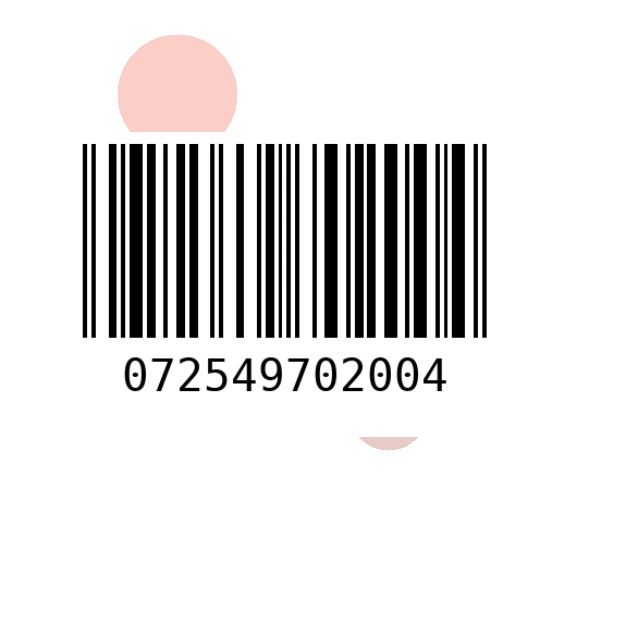barcode: (0, 132, 569, 437)
